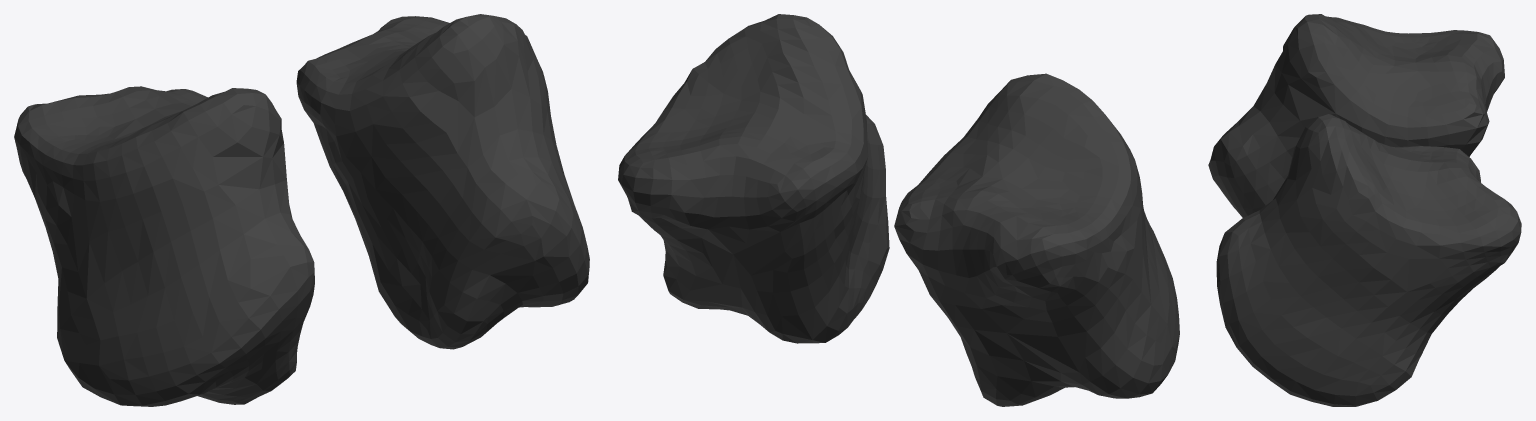
The model's file is P2s_bone_P2s_bone.glb.
3 renders of one model, left to right at view 1: azimuth 30°, elevation 25°; view 2: azimuth 150°, elevation 25°; view 3: azimuth 270°, elevation 25°, orthographic. The views are drawn at different scales.
Parts seen in each view (by area): view 1: P2s_bone_P2s_bone; view 2: P2s_bone_P2s_bone; view 3: P2s_bone_P2s_bone.
Boxes of the visible parts, x1=… form: P2s_bone_P2s_bone: x1=14, y1=14, x2=589, y2=406; P2s_bone_P2s_bone: x1=618, y1=14, x2=1179, y2=406; P2s_bone_P2s_bone: x1=1208, y1=14, x2=1521, y2=406.
Bounding box in the file's own units: 0.1385 × 0.0879 × 0.0905.
1 material, 1 textured.
